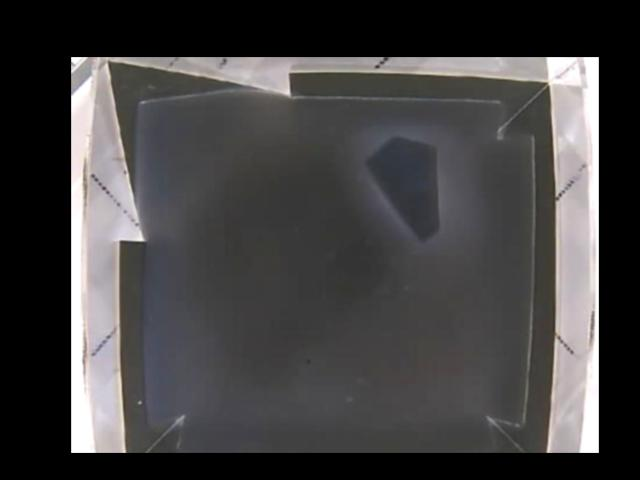Mooli: (364, 136, 441, 245)
